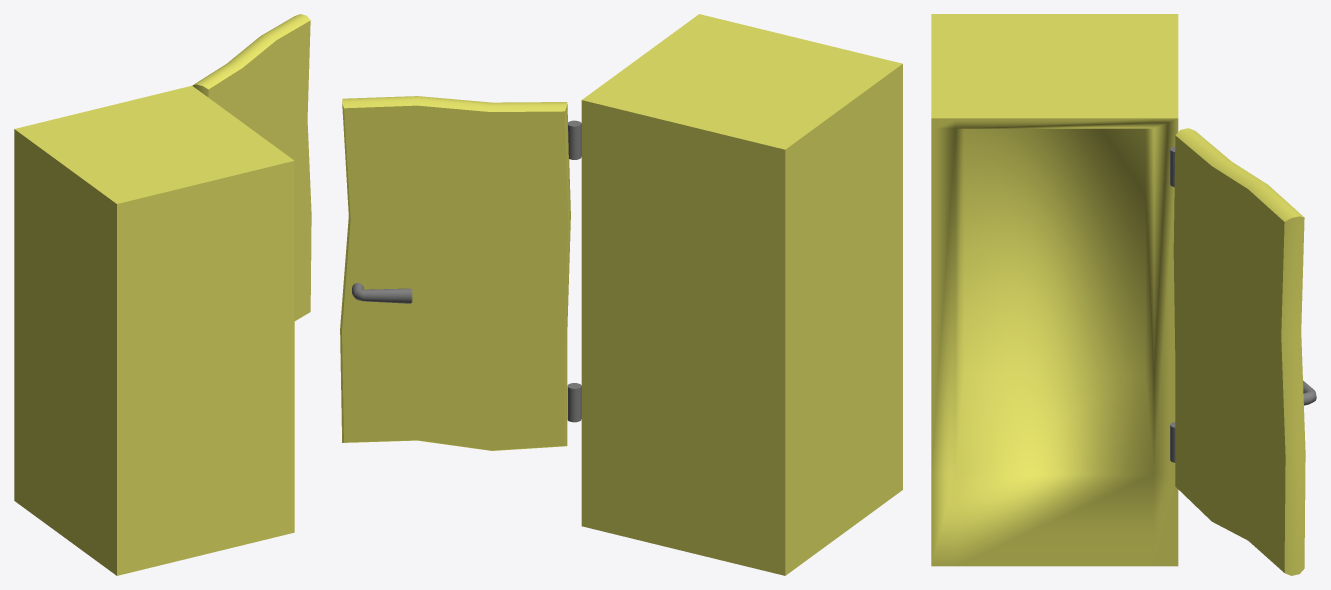
File: Fridge_Open.fbx
3 renders of one model, left to right at view 1: azimuth 30°, elevation 25°; view 2: azimuth 150°, elevation 25°; view 3: azimuth 270°, elevation 25°, orthographic. The views are drawn at different scales.
Parts seen in each view (by area): view 1: pCube108, pCube98; view 2: pCube108, pCube98, pCylinder11; view 3: pCube108, pCube98.
Boxes of the visible parts, x1,y1,x2,y2 form: pCube108: [14, 85, 294, 575]; pCube98: [192, 14, 311, 320]; pCube108: [581, 14, 902, 575]; pCube98: [340, 96, 570, 450]; pCylinder11: [352, 283, 412, 303]; pCube108: [931, 14, 1178, 566]; pCube98: [1173, 128, 1305, 575].
Bounding box in the file's own units: 1923 × 2000 × 1559.
